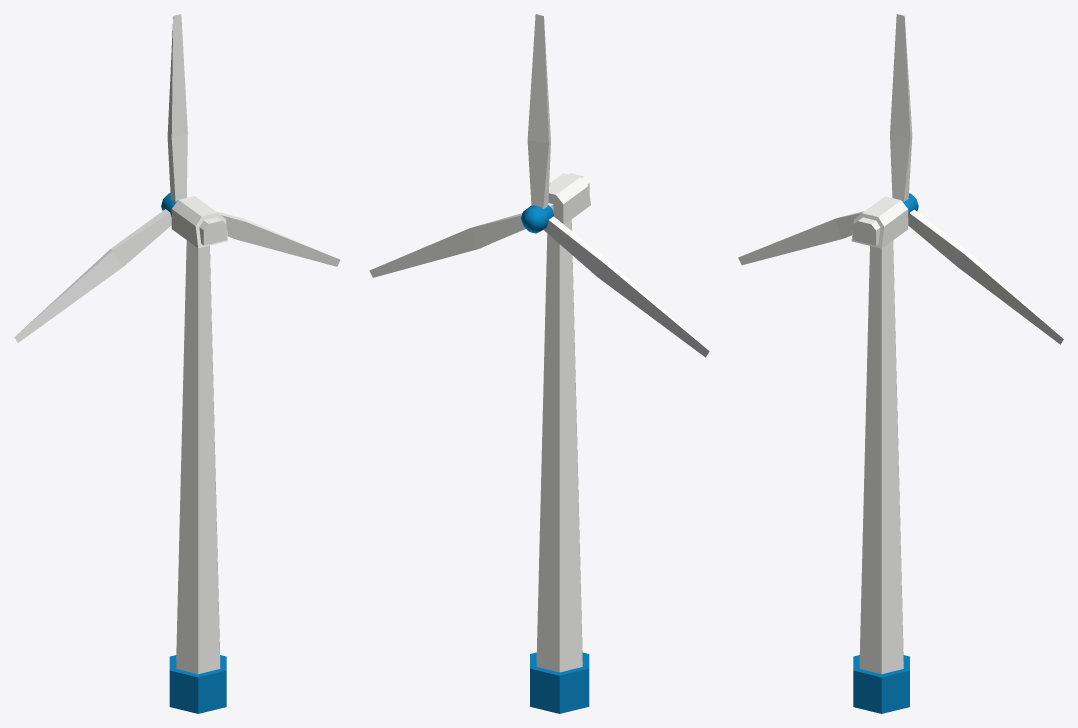
Rendered from model_polytope_wind_turbine.fbx.
The picture shows the model from 3 angles, left to right: view 1: azimuth 30°, elevation 25°; view 2: azimuth 150°, elevation 25°; view 3: azimuth 330°, elevation 25°; orthographic projection. The views are drawn at different scales.
Parts seen in each view (by area): view 1: model_polytope_wind_turbine, model_polytope_wind_turbine_blades; view 2: model_polytope_wind_turbine, model_polytope_wind_turbine_blades; view 3: model_polytope_wind_turbine, model_polytope_wind_turbine_blades.
Part boxes in pixels (x1,y1,x2,y2): model_polytope_wind_turbine: (169,196,228,713); model_polytope_wind_turbine_blades: (14,14,340,342); model_polytope_wind_turbine: (530,173,590,713); model_polytope_wind_turbine_blades: (369,14,709,357); model_polytope_wind_turbine: (851,196,909,713); model_polytope_wind_turbine_blades: (738,14,1063,344).
Size of the model in its own units: 654 by 1285 by 160.
